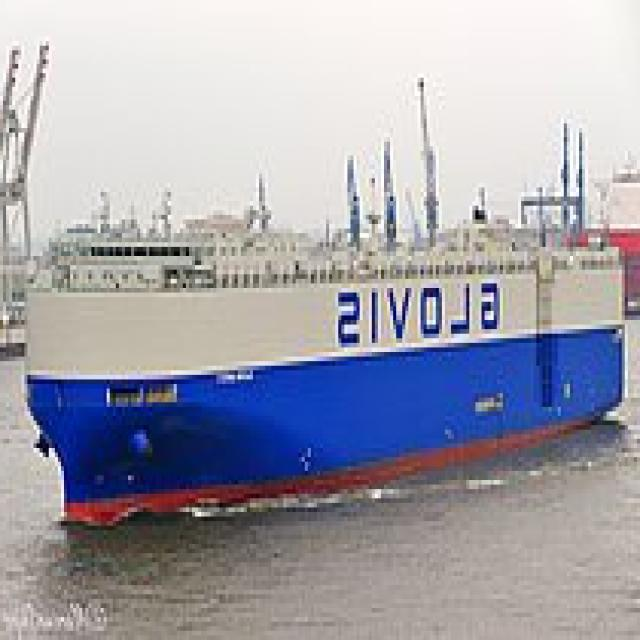Carrier: (24, 210, 631, 526)
